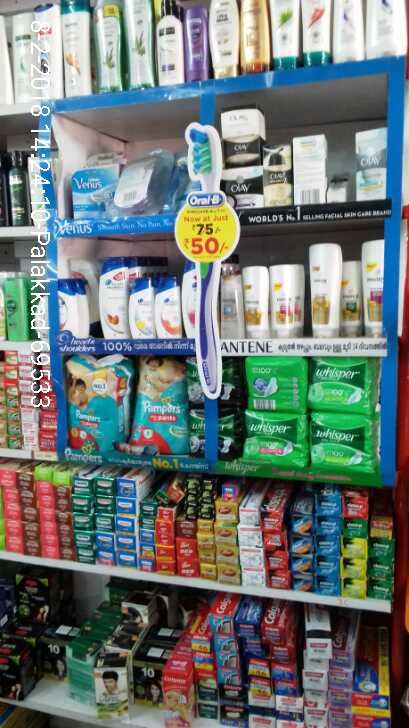venus: (115, 153, 162, 212), (71, 153, 115, 212), (162, 158, 187, 212)
